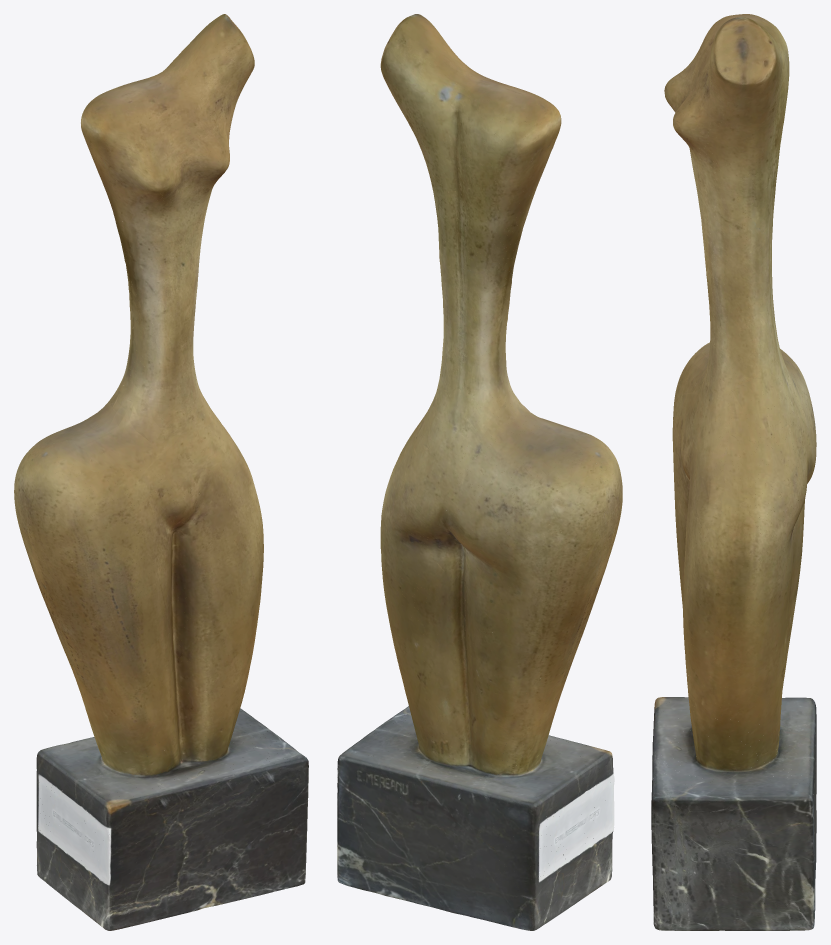
Rendered from preview.glb.
The picture shows the model from 3 angles, left to right: view 1: azimuth 30°, elevation 25°; view 2: azimuth 150°, elevation 25°; view 3: azimuth 270°, elevation 25°; orthographic projection. The views are drawn at different scales.
Parts seen in each view (by area): view 1: Object_2, Object_6, Object_4, Object_9, Object_3, Object_5, Object_7, Object_11, Object_12, Object_8, Object_10; view 2: Object_3, Object_2, Object_5, Object_7, Object_8, Object_11, Object_4, Object_6, Object_10, Object_9, Object_12; view 3: Object_2, Object_3, Object_10, Object_8, Object_5, Object_6, Object_4, Object_11, Object_7, Object_9, Object_12.
Part boxes in pixels (x1,y1,x2,y2): Object_2: (57,708,308,930); Object_6: (14,86,244,519); Object_4: (14,429,262,712); Object_9: (30,186,262,769); Object_3: (17,366,305,925); Object_5: (14,31,261,759); Object_7: (81,81,233,409); Object_11: (38,630,303,799); Object_12: (36,731,308,896); Object_8: (81,14,254,263); Object_10: (31,529,263,774); Object_3: (337,383,615,930); Object_2: (337,706,614,930); Object_5: (380,63,622,770); Object_7: (393,81,561,417); Object_8: (380,14,559,279); Object_11: (338,628,598,831); Object_4: (381,385,622,611); Object_6: (397,74,622,524); Object_10: (380,526,604,774); Object_9: (380,175,605,774); Object_12: (337,736,614,901); Object_2: (651,697,816,930); Object_3: (651,346,816,930); Object_10: (674,491,805,772); Object_8: (666,14,788,244); Object_5: (672,26,816,741); Object_6: (664,16,814,491); Object_4: (672,349,814,737); Object_11: (656,607,816,866); Object_7: (664,14,789,386); Object_9: (674,133,792,758); Object_12: (651,697,816,901).
Size of the model in its own units: 2.76 by 9.17 by 1.54.
1 material, 1 textured.
